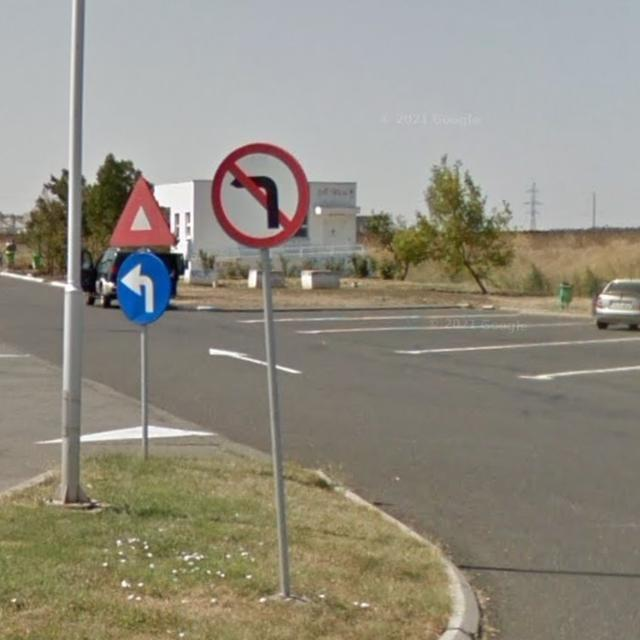prio_give_way: (109, 176, 175, 248)
